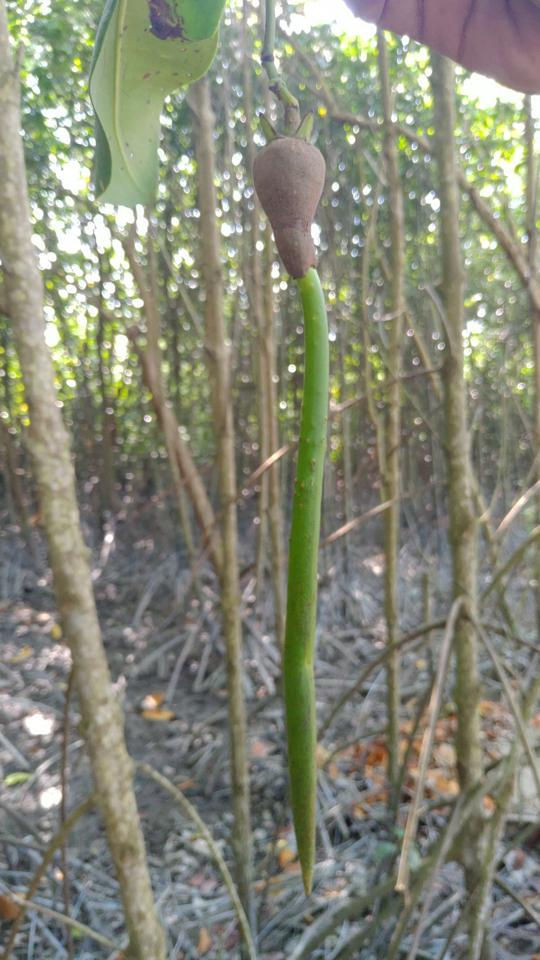mentah: (234, 96, 339, 916)
